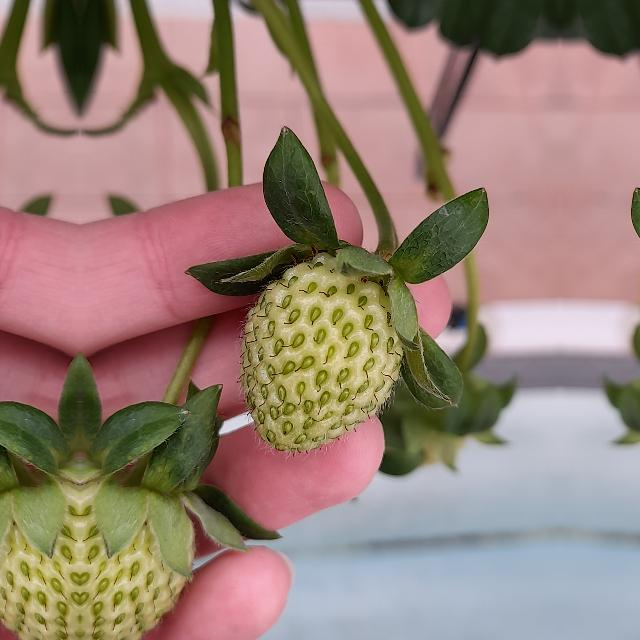Health_25: (240, 252, 402, 452)
